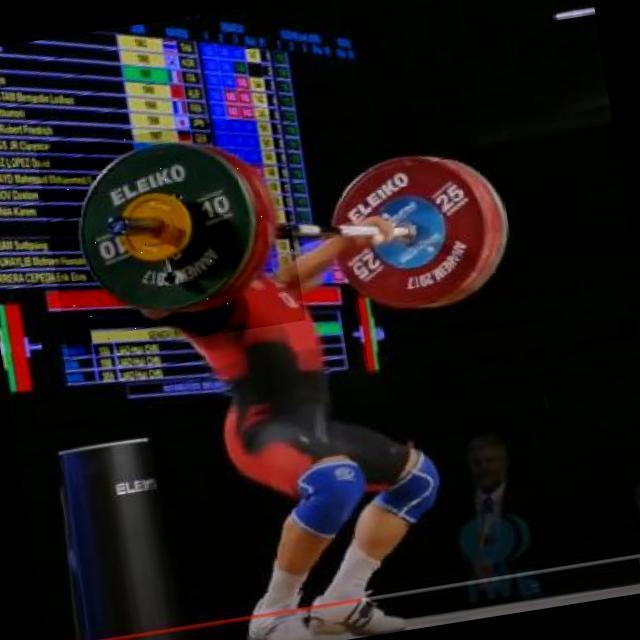barbell: (37, 114, 307, 359)
